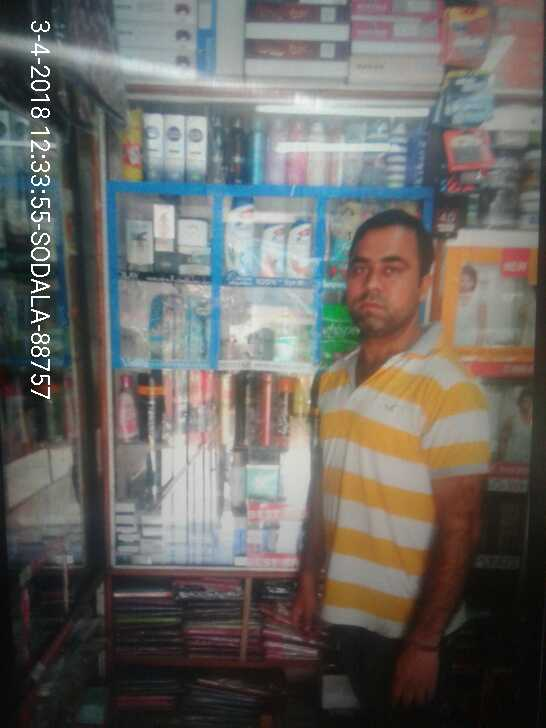venus: (149, 296, 181, 358), (181, 297, 208, 358)
